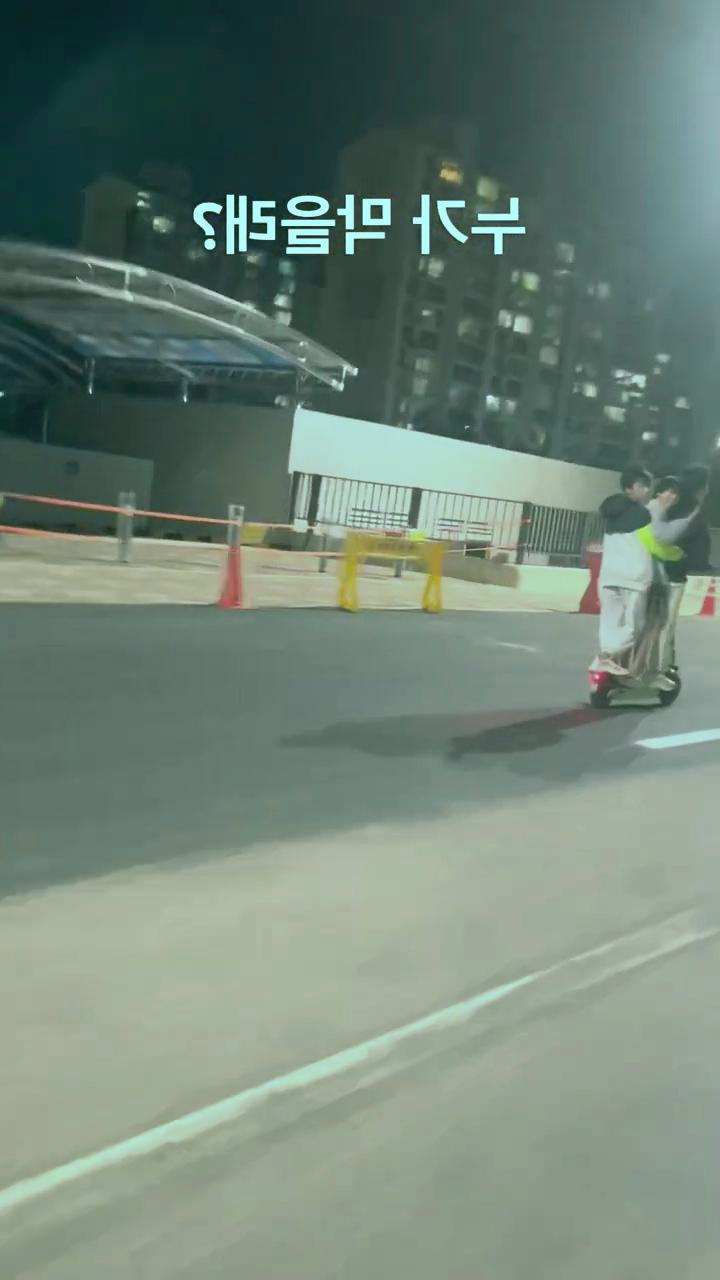multiple: (582, 462, 719, 714)
